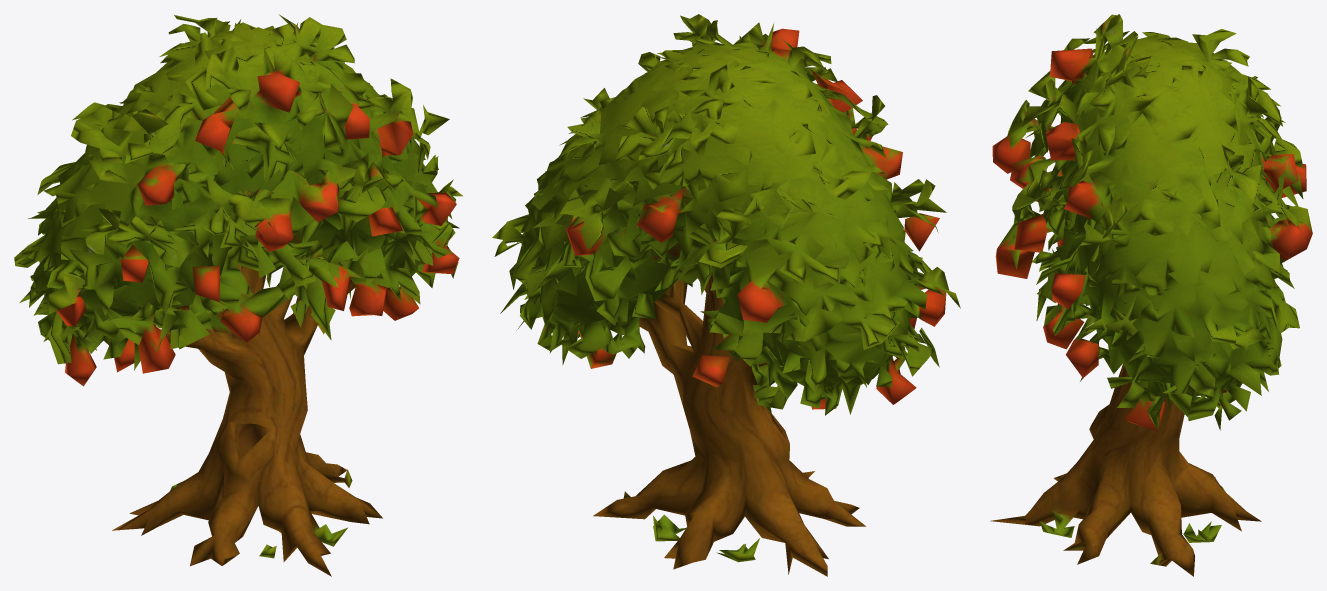
The model's file is apple tree 3d model.glb.
3 views of the same model, side by side, from view 1: azimuth 30°, elevation 25°; view 2: azimuth 150°, elevation 25°; view 3: azimuth 270°, elevation 25° (orthographic).
Parts seen in each view (by area): view 1: tripo_node_e3780988-04f6-4d61-9511-fc74d5ef3ebd; view 2: tripo_node_e3780988-04f6-4d61-9511-fc74d5ef3ebd; view 3: tripo_node_e3780988-04f6-4d61-9511-fc74d5ef3ebd.
Part boxes in pixels (bbox=[...]): tripo_node_e3780988-04f6-4d61-9511-fc74d5ef3ebd: bbox=[14, 14, 462, 576]; tripo_node_e3780988-04f6-4d61-9511-fc74d5ef3ebd: bbox=[492, 14, 960, 576]; tripo_node_e3780988-04f6-4d61-9511-fc74d5ef3ebd: bbox=[990, 14, 1312, 576].
Bounding box in the file's own units: 0.8633 × 1 × 0.5903.
Materials: 1 (1 with a texture image).
